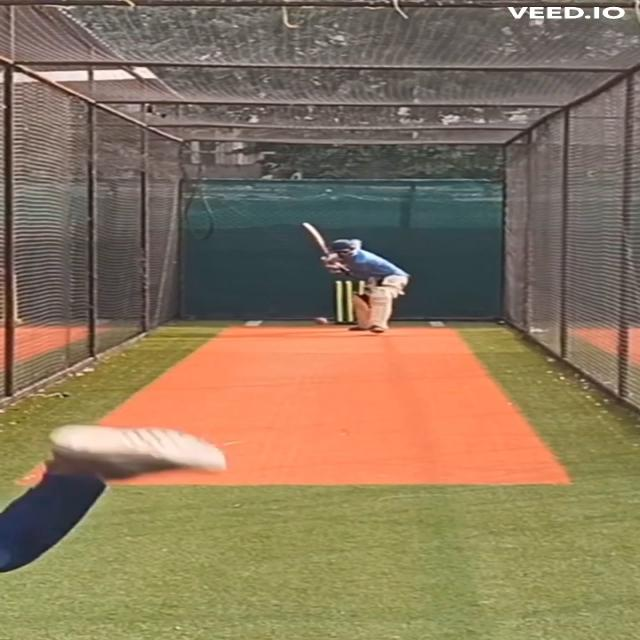ball: (312, 316, 330, 326)
stump: (332, 280, 364, 325)
